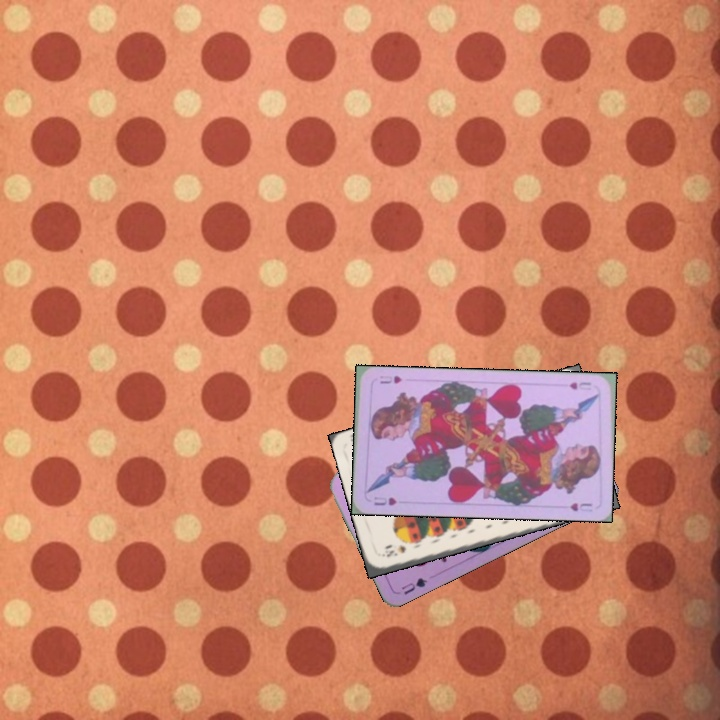GU: (397, 573, 430, 597)
HU: (370, 493, 400, 508), (565, 378, 594, 393)
S10: (378, 543, 408, 560)
